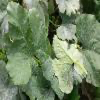Squash Powdery mildew leaf: (5, 0, 51, 85), (51, 33, 84, 96), (76, 11, 99, 87), (56, 0, 81, 42)
